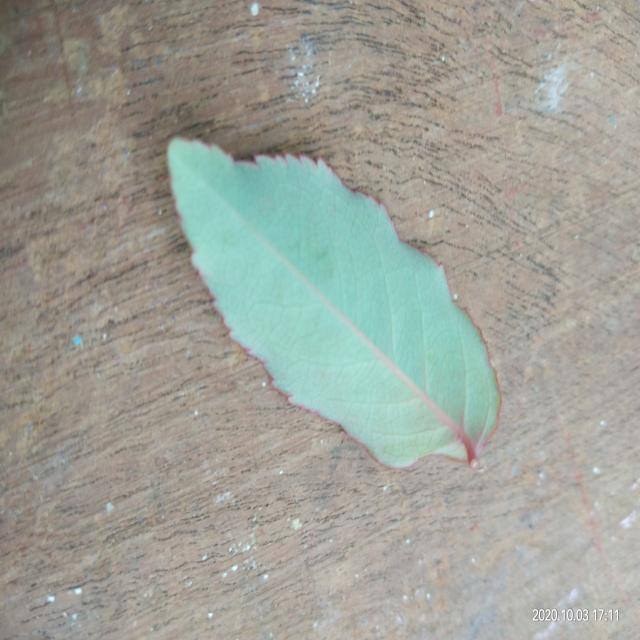rose: (168, 138, 500, 468)
